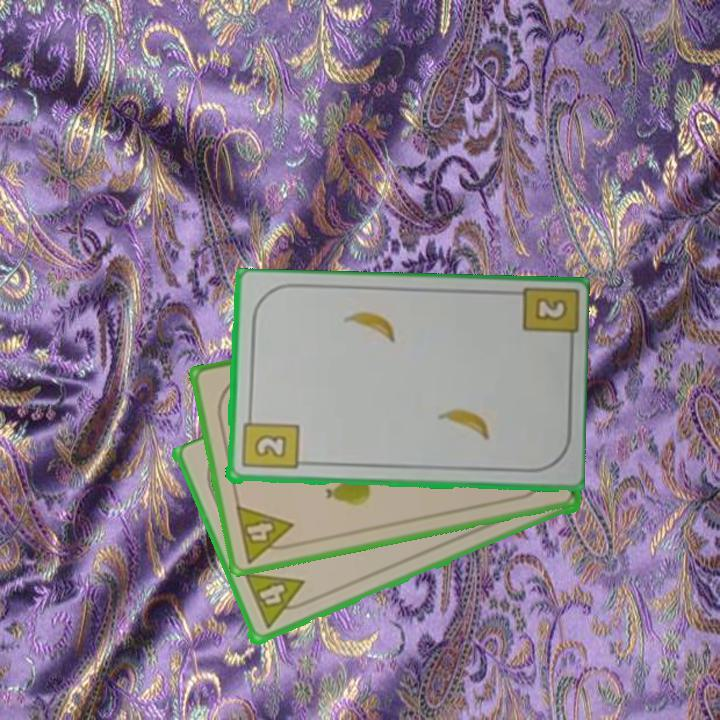2b: (238, 410, 300, 472), (531, 294, 570, 324)
4p: (241, 569, 313, 633), (232, 501, 300, 566)
